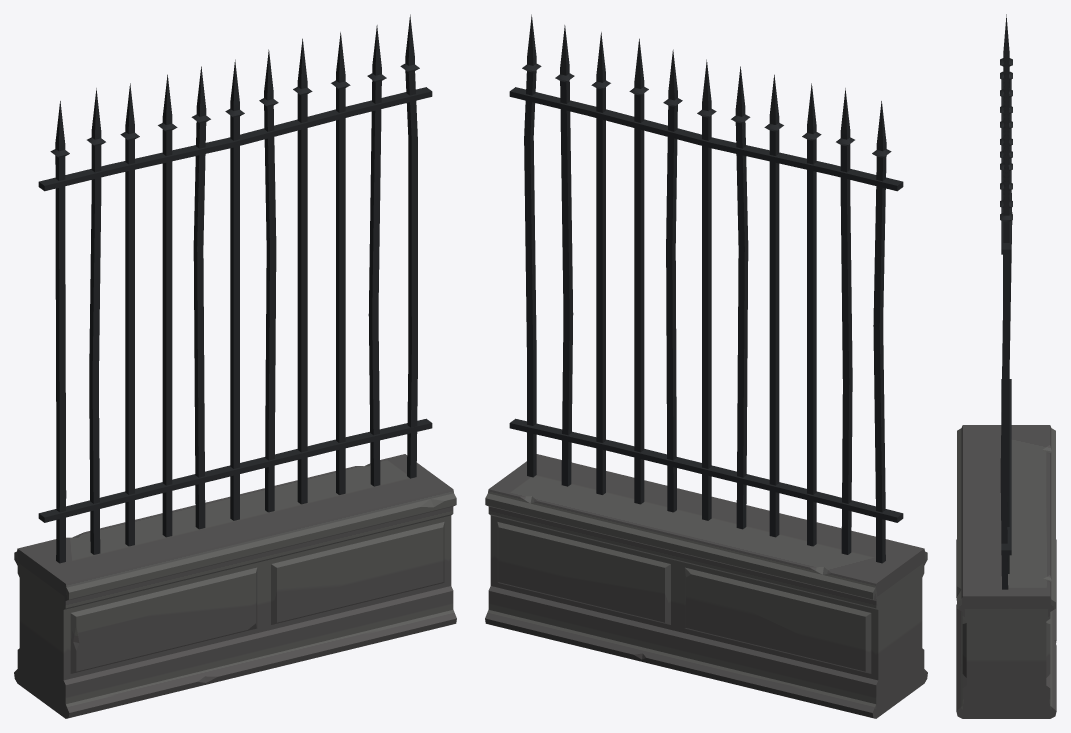
Rendered from SM_Bld_Fence_01.fbx.
3 renders of one model, left to right at view 1: azimuth 30°, elevation 25°; view 2: azimuth 150°, elevation 25°; view 3: azimuth 270°, elevation 25°, orthographic. The views are drawn at different scales.
Parts seen in each view (by area): view 1: SM_Bld_Fence_01; view 2: SM_Bld_Fence_01; view 3: SM_Bld_Fence_01.
Part boxes in pixels (bbox=[...]): SM_Bld_Fence_01: bbox=[14, 14, 456, 718]; SM_Bld_Fence_01: bbox=[485, 14, 927, 718]; SM_Bld_Fence_01: bbox=[956, 14, 1056, 718].
Size of the model in its own units: 250 by 370 by 61.79.
